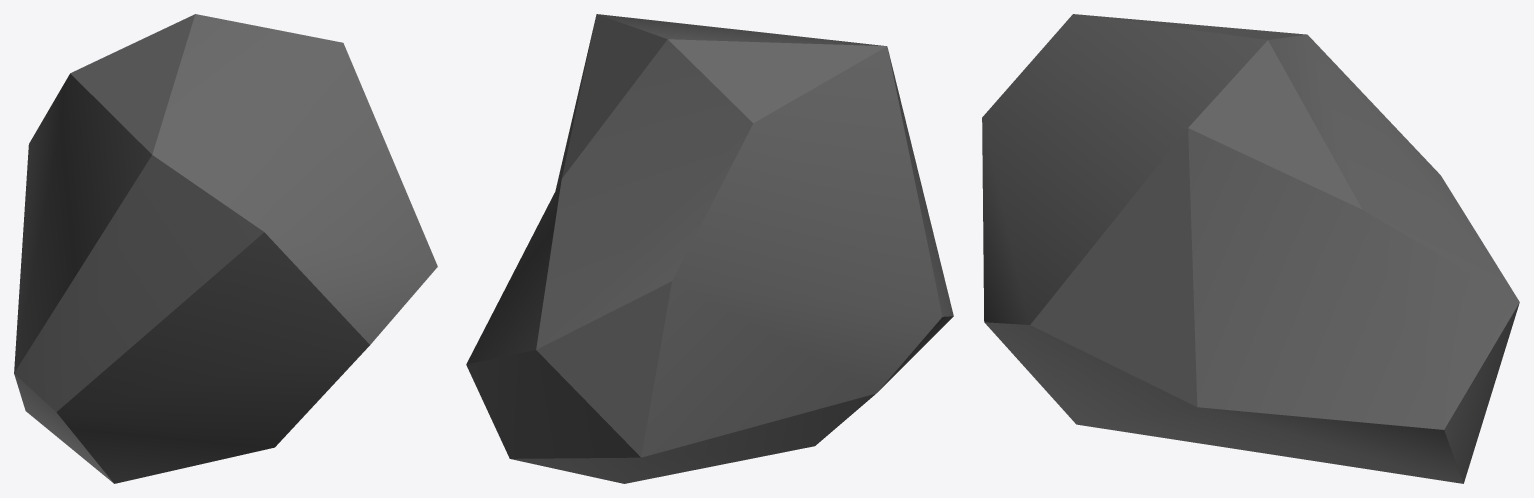
The model's file is rock_big_5.fbx.
3 views of the same model, side by side, from view 1: azimuth 30°, elevation 25°; view 2: azimuth 150°, elevation 25°; view 3: azimuth 270°, elevation 25° (orthographic). The views are drawn at different scales.
Visible parts, largest first — view 1: rock_big_5; view 2: rock_big_5; view 3: rock_big_5.
Part boxes in pixels (box(x1,y1,x2,y2)): rock_big_5: box(14, 14, 437, 483); rock_big_5: box(466, 14, 953, 483); rock_big_5: box(982, 14, 1519, 483).
Size of the model in its own units: 92.92 by 94.33 by 104.
